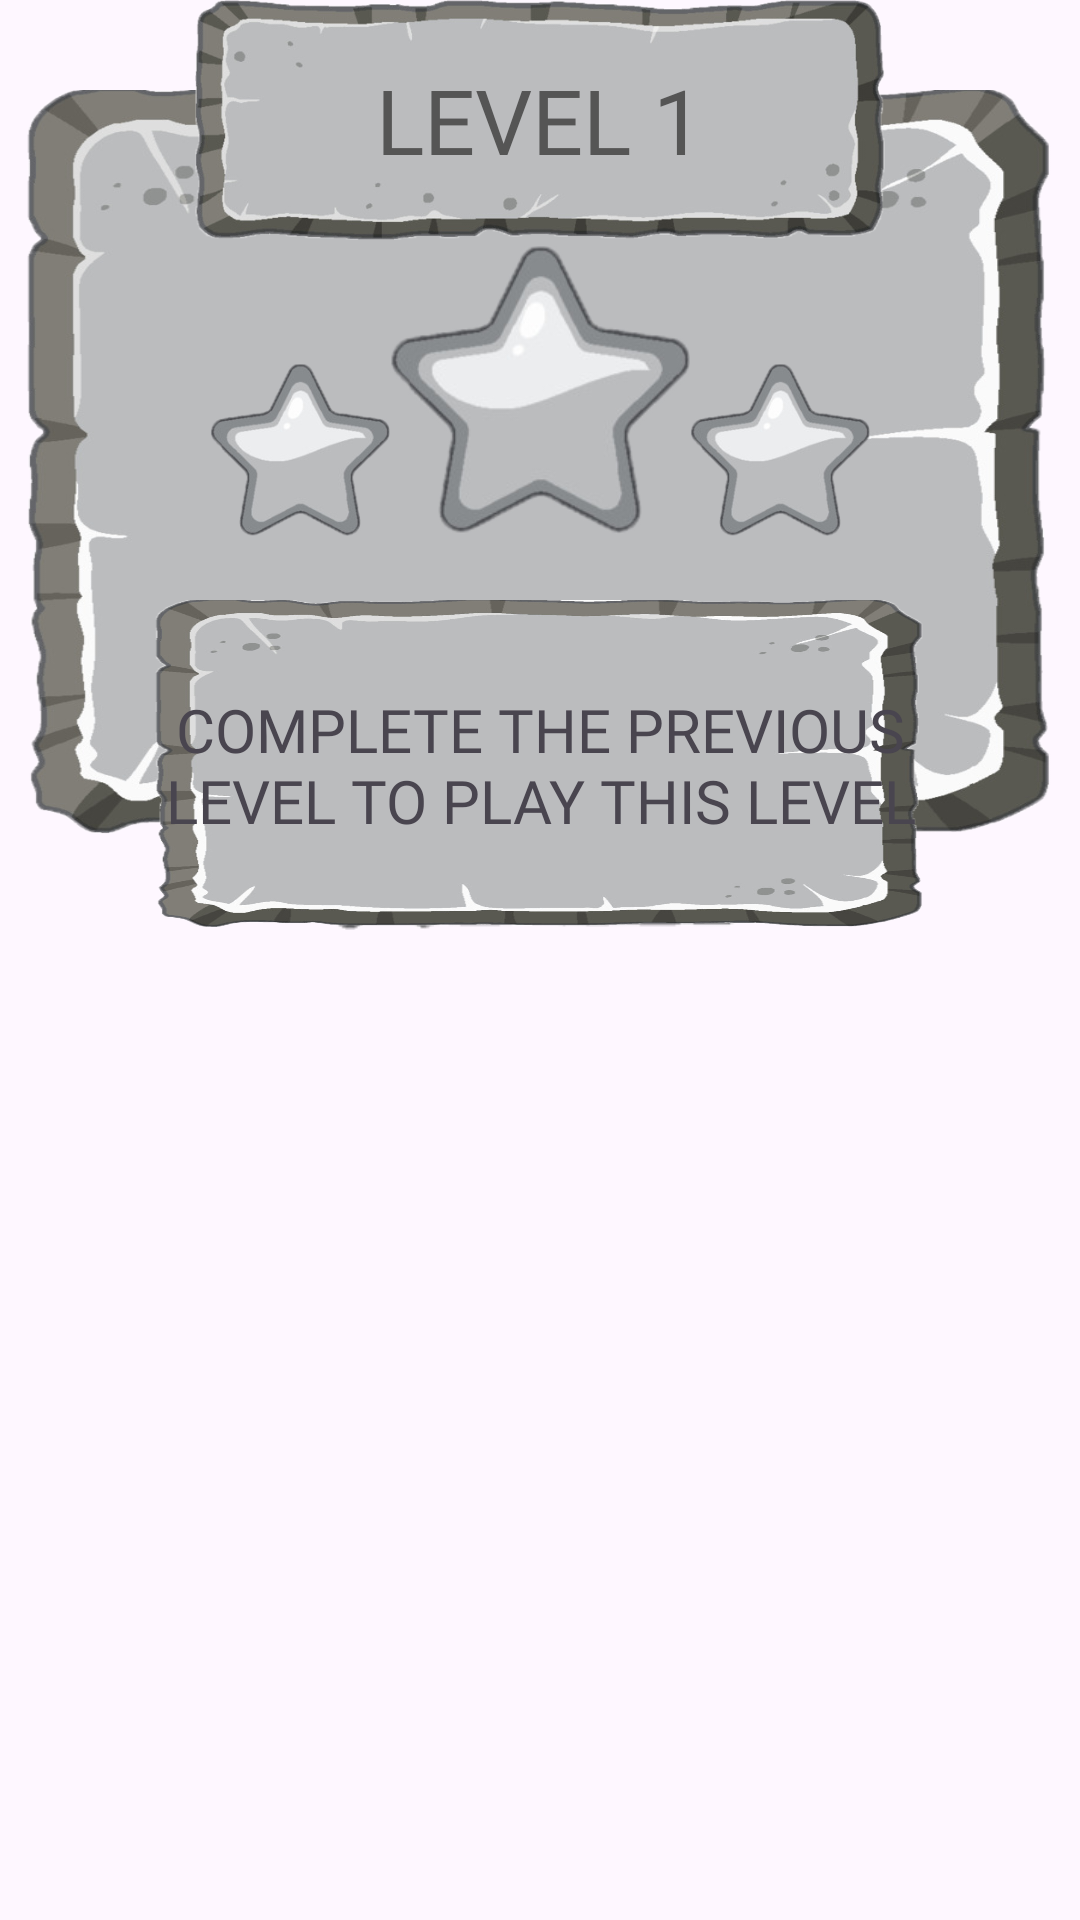

Screen size 1080×1920. Icon name, then its box in pixels as [x1, y1, x2, y2]:
levelstarfailed: [391, 247, 689, 533], [211, 364, 389, 536], [691, 364, 870, 536]
